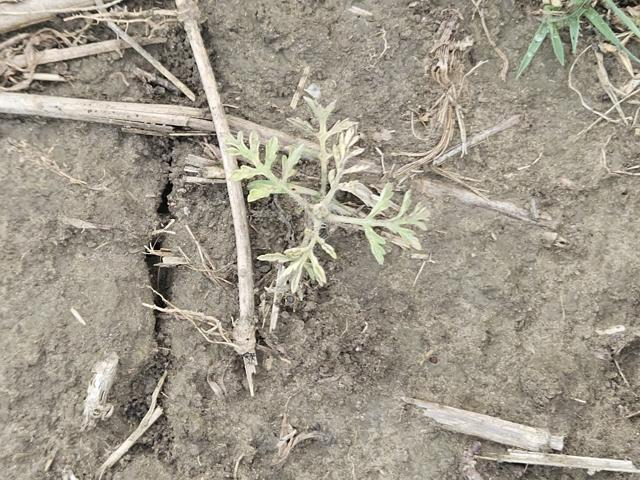bad weed: (192, 105, 447, 310)
